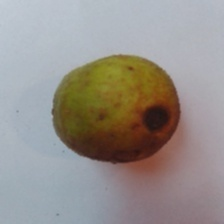guava: (0, 49, 189, 217)
